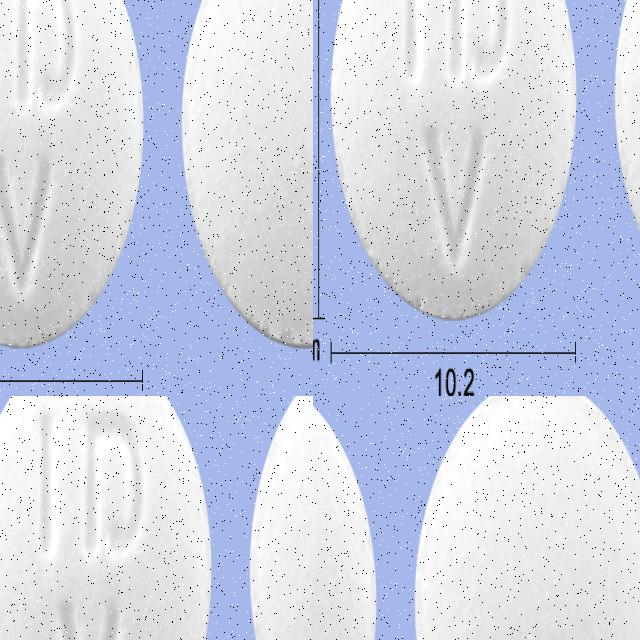Besivo: (412, 396, 640, 640), (313, 396, 379, 640)
Celltrion Clarithromycin: (0, 533, 270, 640), (221, 396, 313, 590)
Ciflox: (0, 0, 145, 351), (184, 0, 313, 349)
Descovy -25mg: (329, 54, 617, 319)
